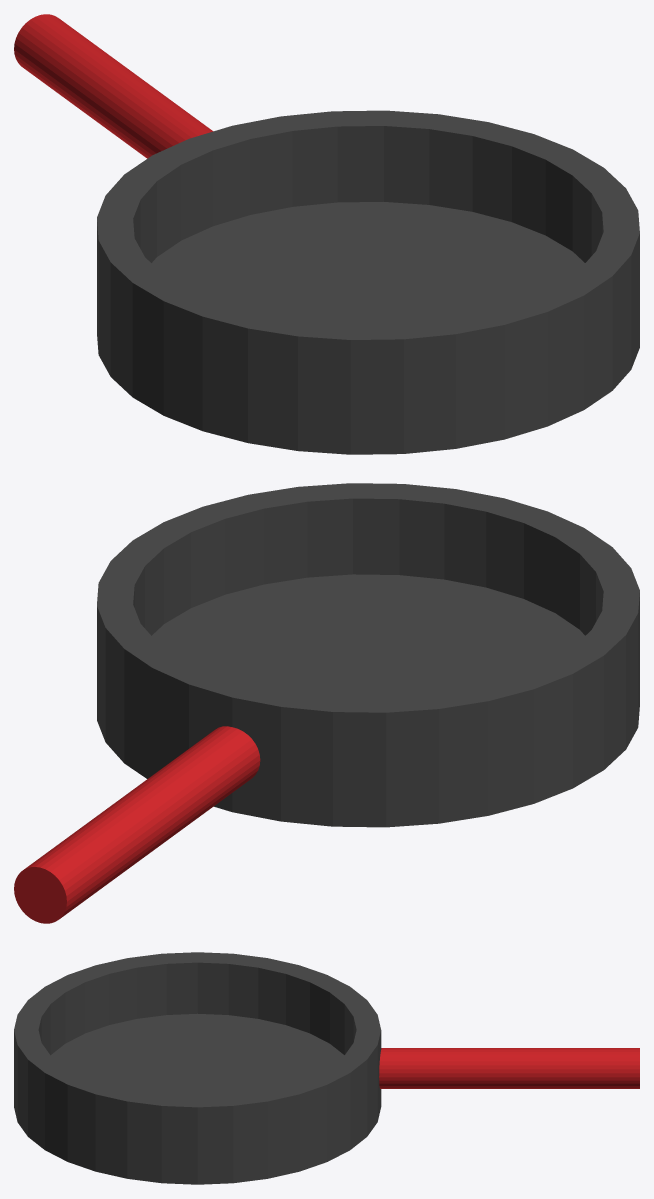
Rendered from flypan.fbx.
3 renders of one model, top to bottom at view 1: azimuth 30°, elevation 25°; view 2: azimuth 150°, elevation 25°; view 3: azimuth 270°, elevation 25°, orthographic. The views are drawn at different scales.
Parts seen in each view (by area): view 1: Cylinder, Cylinder.001; view 2: Cylinder, Cylinder.001; view 3: Cylinder, Cylinder.001.
Part boxes in pixels (x1,y1,x2,y2): Cylinder: [97, 110, 639, 454]; Cylinder.001: [14, 14, 213, 158]; Cylinder: [97, 483, 639, 827]; Cylinder.001: [14, 726, 260, 923]; Cylinder: [14, 952, 381, 1184]; Cylinder.001: [379, 1048, 639, 1088].
Size of the model in its own units: 200 by 46.5 by 341.
